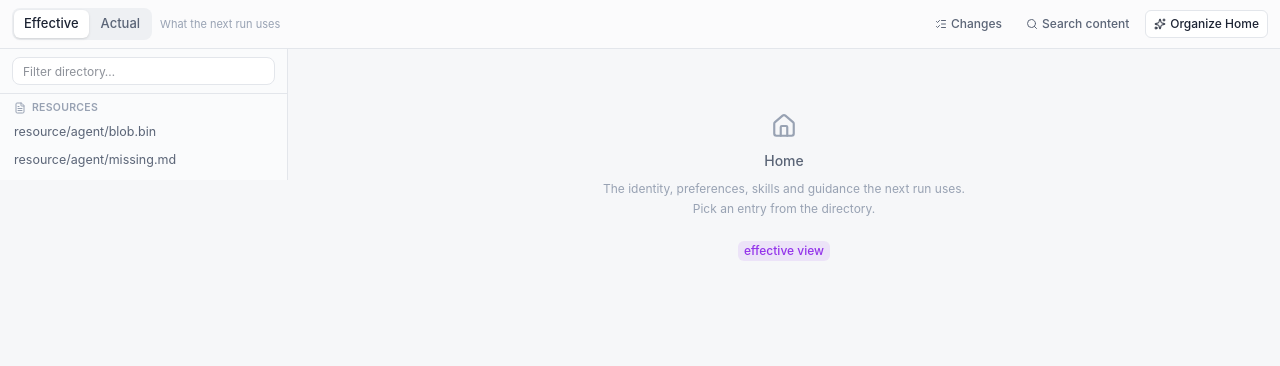
HomePage reading › keeps missing and unreadable resources as distinct, honest states
Click the button titled "home:resource/agent/missing.md". click: (144, 161)
box: left=6, top=148, right=281, bottom=174
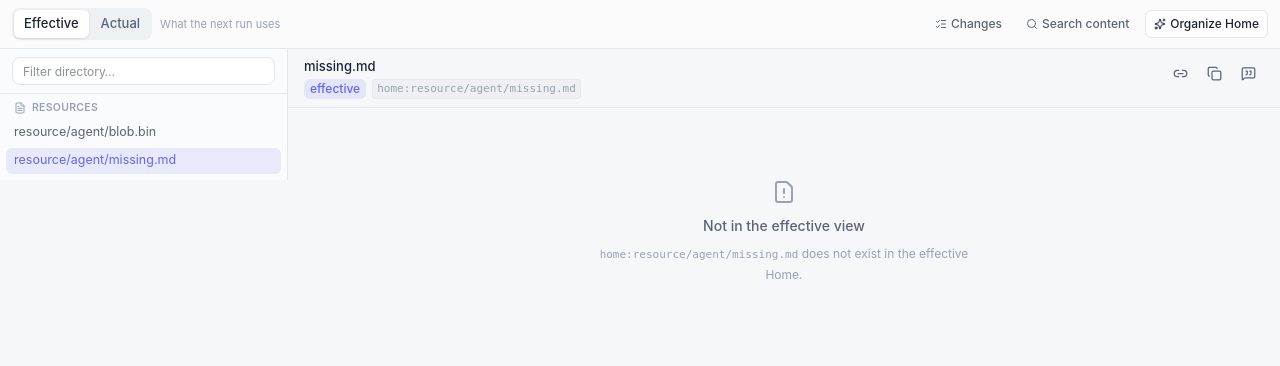
Check: the text "Not in the effective view" is shown, box left=703, top=216, right=865, bottom=236
Click the button titled "home:resource/agent/blob.bin". click: (144, 133)
box: left=6, top=120, right=281, bottom=146
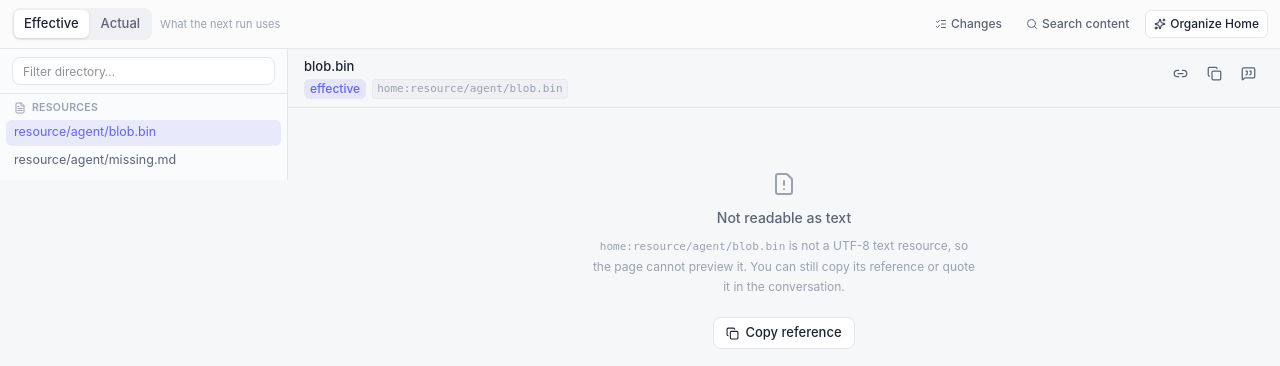
Check: the text "Not readable as text" is shown, box left=717, top=208, right=851, bottom=228
Check: the text "Copy reference" is shown, box left=713, top=317, right=854, bottom=349
